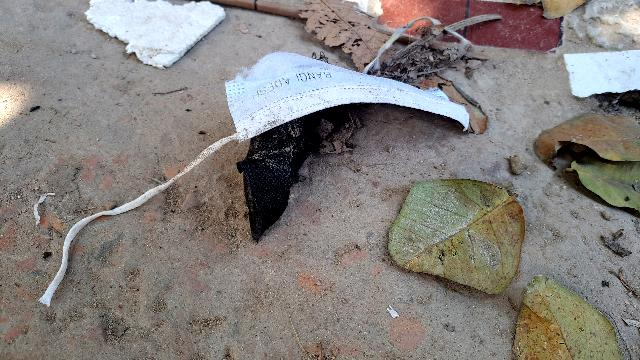mask: (210, 60, 478, 154)
